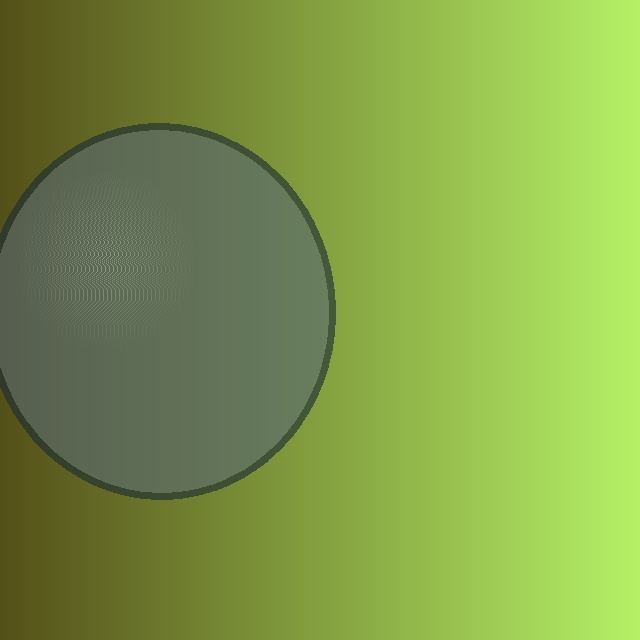lens: (0, 126, 332, 496)
